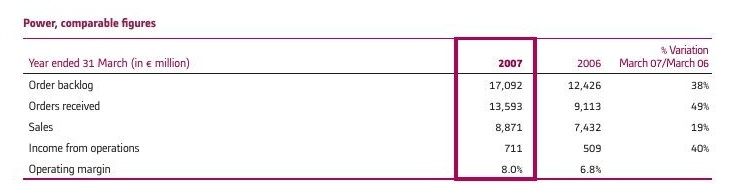table: (0, 0, 736, 192)
